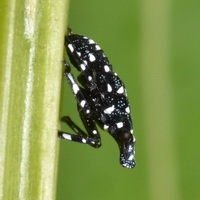insect: (58, 28, 135, 167)
